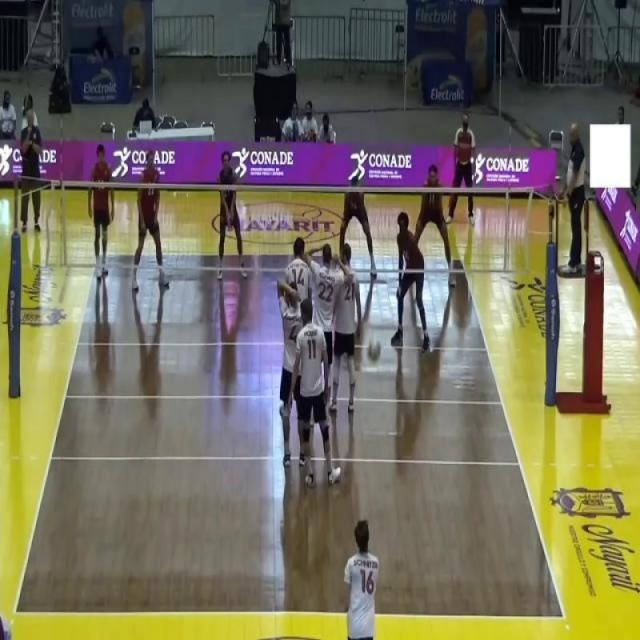volleyball: (366, 339, 382, 364)
